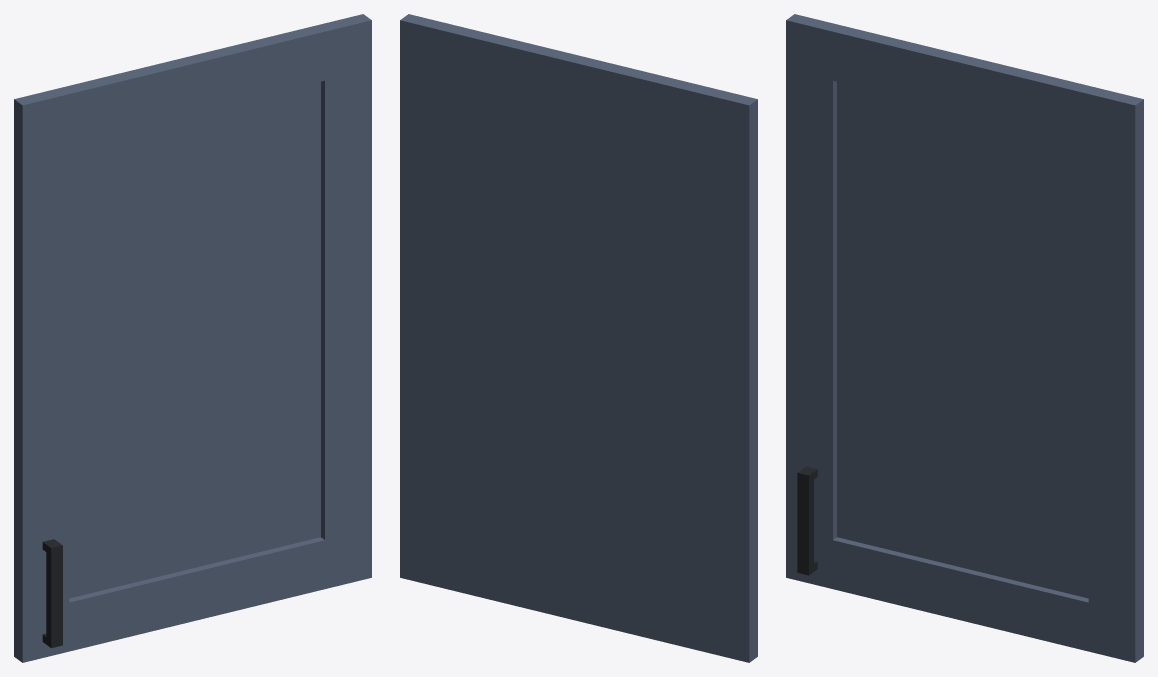
File: Door2_C4_11.fbx
3 views of the same model, side by side, from view 1: azimuth 30°, elevation 25°; view 2: azimuth 150°, elevation 25°; view 3: azimuth 330°, elevation 25° (orthographic).
Visible parts, largest first — view 1: Door2_C4_11; view 2: Door2_C4_11; view 3: Door2_C4_11.
Boxes of the visible parts, x1=… form: Door2_C4_11: x1=14, y1=14, x2=371, y2=662; Door2_C4_11: x1=400, y1=14, x2=757, y2=662; Door2_C4_11: x1=786, y1=14, x2=1143, y2=662.
Bounding box in the file's own units: 59 × 90 × 5.03.
